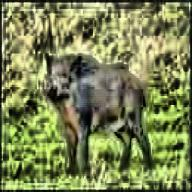boar: (43, 52, 152, 176)
